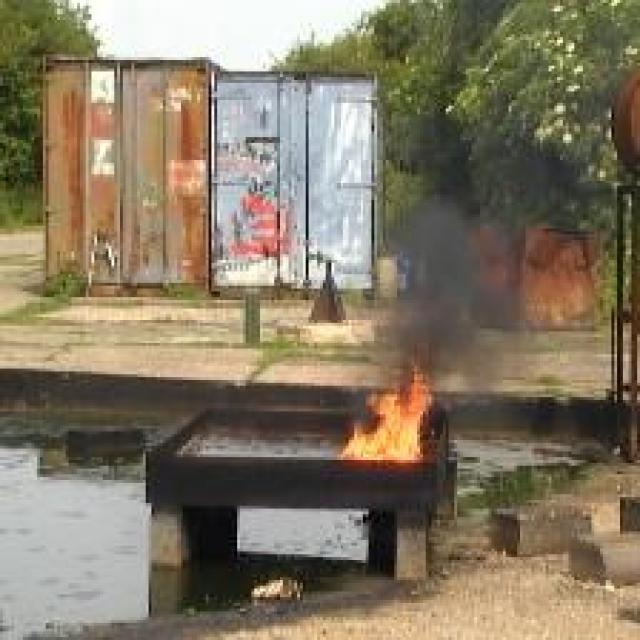Fire: (344, 358, 432, 462)
Smoke: (393, 110, 583, 374)
